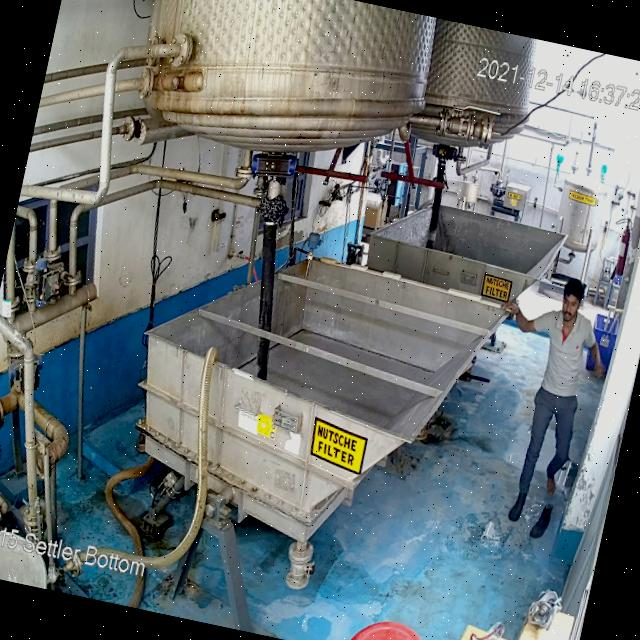boots: (525, 498, 557, 546), (504, 481, 530, 529)
no-boots: (537, 464, 562, 498)
